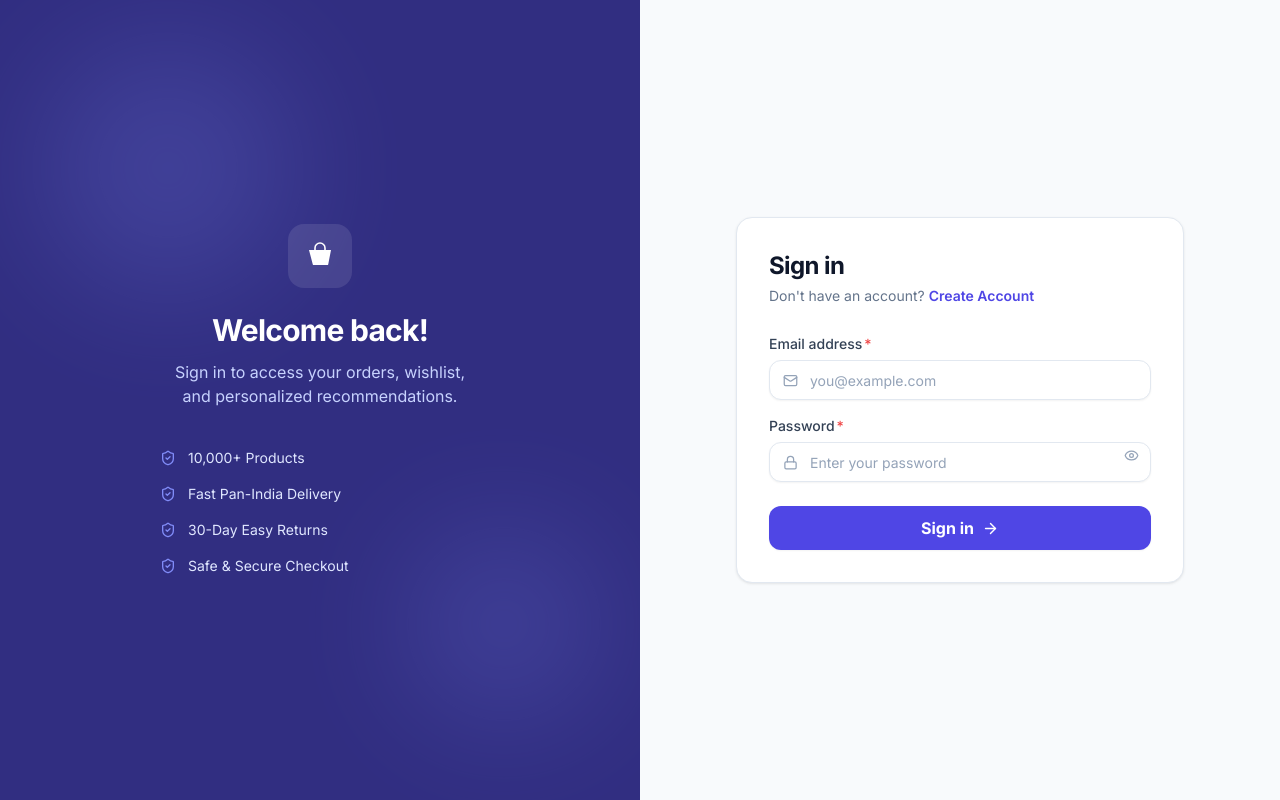
LoginPage QA & Polish Pass › validates empty form and stops submission
Click the button "Sign in". click: (960, 528)
box: left=769, top=506, right=1151, bottom=550
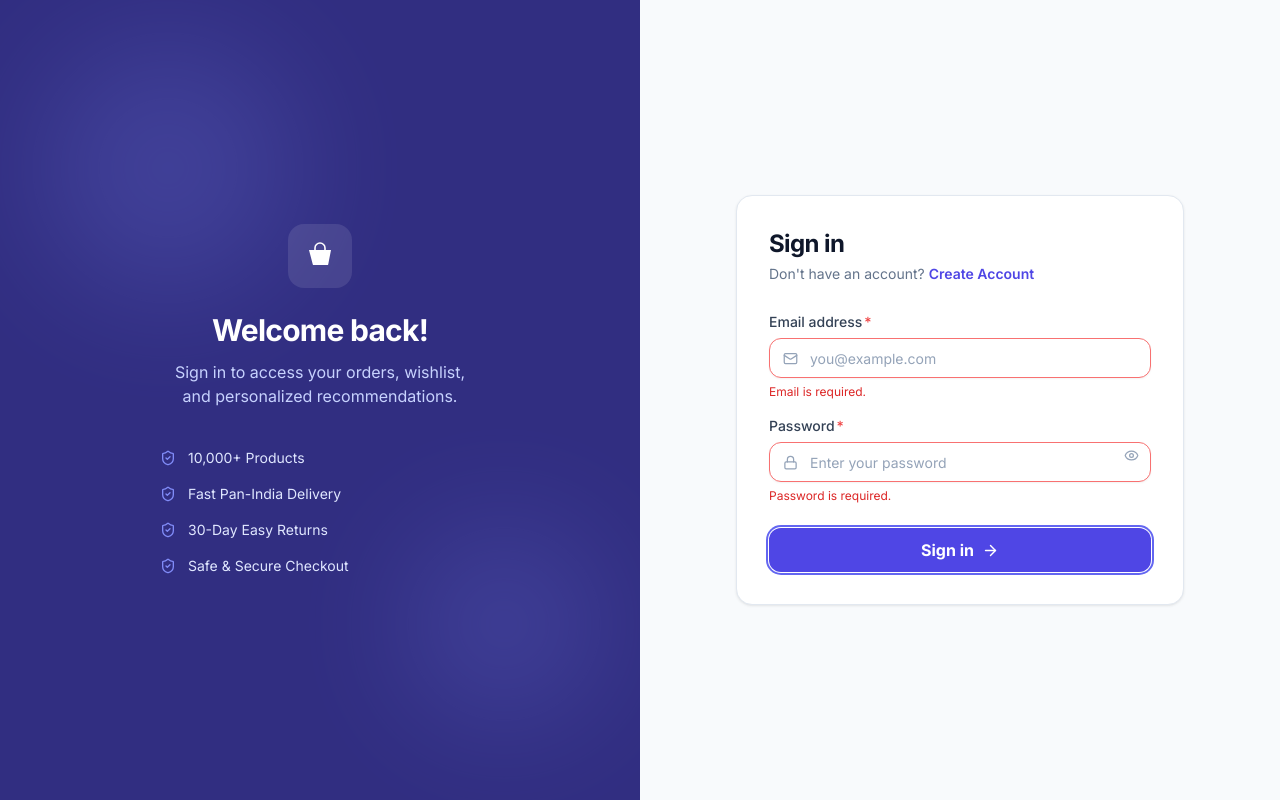
Expected: the text "Email is required." is shown, left=769, top=384, right=866, bottom=399
Expected: the text "Password is required." is shown, left=769, top=488, right=891, bottom=503
